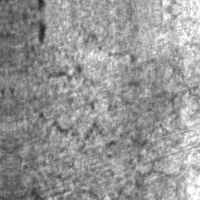crazing: (24, 91, 159, 199), (37, 45, 171, 105)
